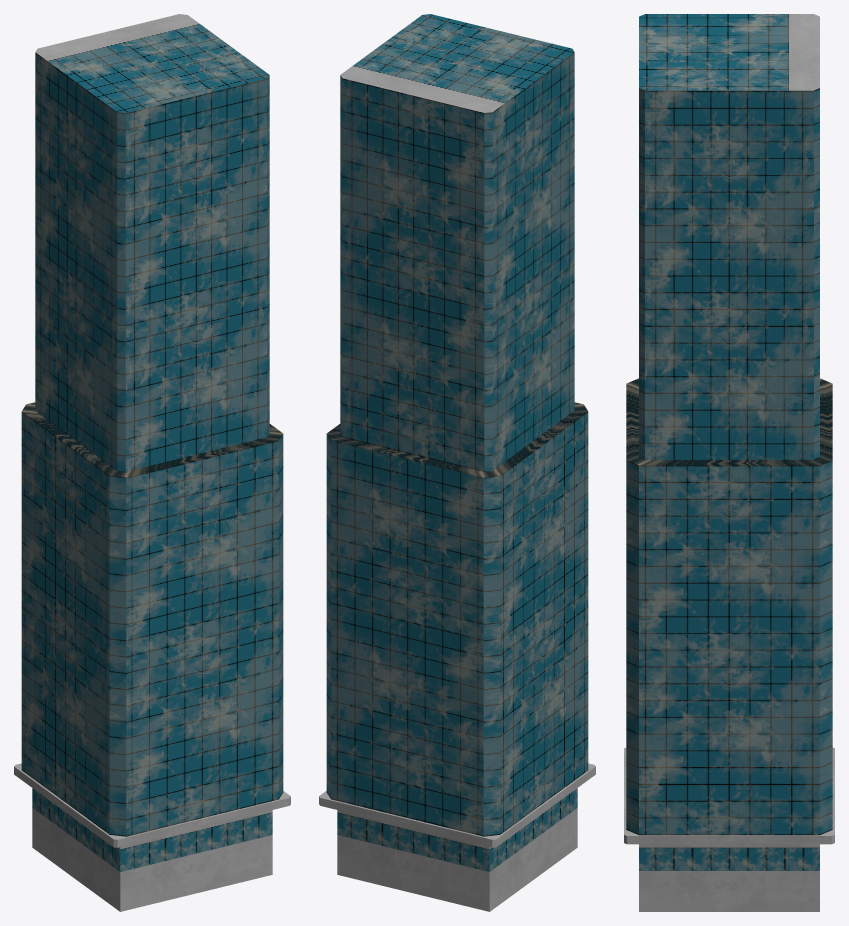
Rendered from SkyScraper_1 final.fbx.
The picture shows the model from 3 angles, left to right: view 1: azimuth 30°, elevation 25°; view 2: azimuth 150°, elevation 25°; view 3: azimuth 270°, elevation 25°; orthographic projection. The views are drawn at different scales.
Parts seen in each view (by area): view 1: pCube1; view 2: pCube1; view 3: pCube1.
Boxes of the visible parts, left/top/right/bottom form: pCube1: left=14, top=14, right=290, bottom=911; pCube1: left=319, top=14, right=595, bottom=911; pCube1: left=624, top=14, right=834, bottom=911.
Size of the model in its own units: 23.26 by 100 by 23.26.
